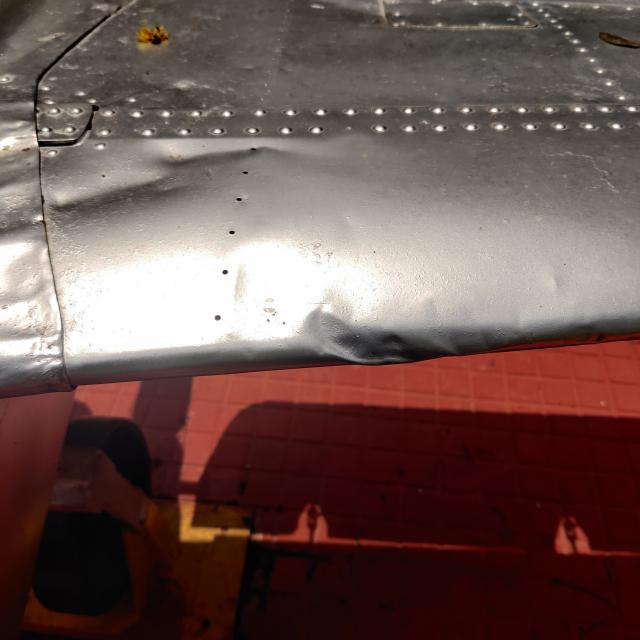dent: (36, 117, 299, 250), (312, 288, 442, 386)
